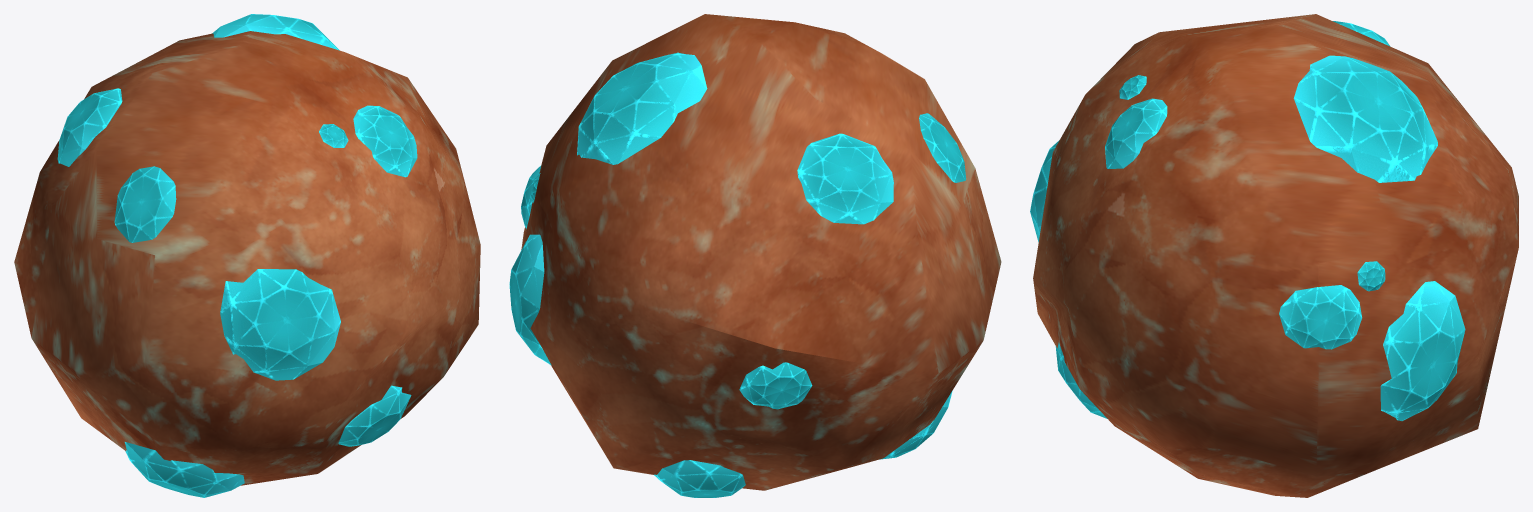
The model's file is crystal_sphere_blue.fbx.
3 renders of one model, left to right at view 1: azimuth 30°, elevation 25°; view 2: azimuth 150°, elevation 25°; view 3: azimuth 270°, elevation 25°, orthographic. The views are drawn at different scales.
Parts seen in each view (by area): view 1: crystal_sphere_body_low, crystal_sphere_jewel_low; view 2: crystal_sphere_body_low, crystal_sphere_jewel_low; view 3: crystal_sphere_body_low, crystal_sphere_jewel_low.
Boxes of the visible parts, box(x1,y1,x2,y2) form: crystal_sphere_body_low: box(14, 31, 480, 485); crystal_sphere_jewel_low: box(57, 14, 417, 497); crystal_sphere_body_low: box(521, 14, 1001, 490); crystal_sphere_jewel_low: box(509, 52, 966, 497); crystal_sphere_body_low: box(1033, 14, 1518, 497); crystal_sphere_jewel_low: box(1030, 21, 1465, 420).
Size of the model in its own units: 1.94 by 1.95 by 1.92.
